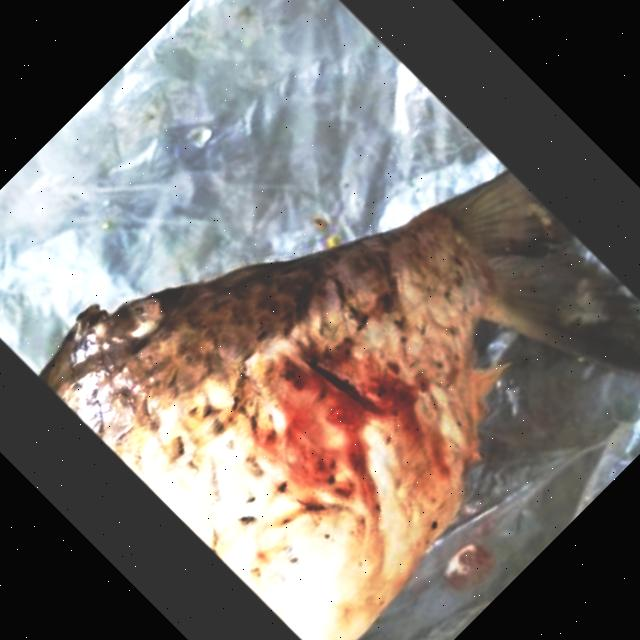Edwardsiella Ictaluri -Bacterial Red Disease-: (41, 172, 640, 640)
